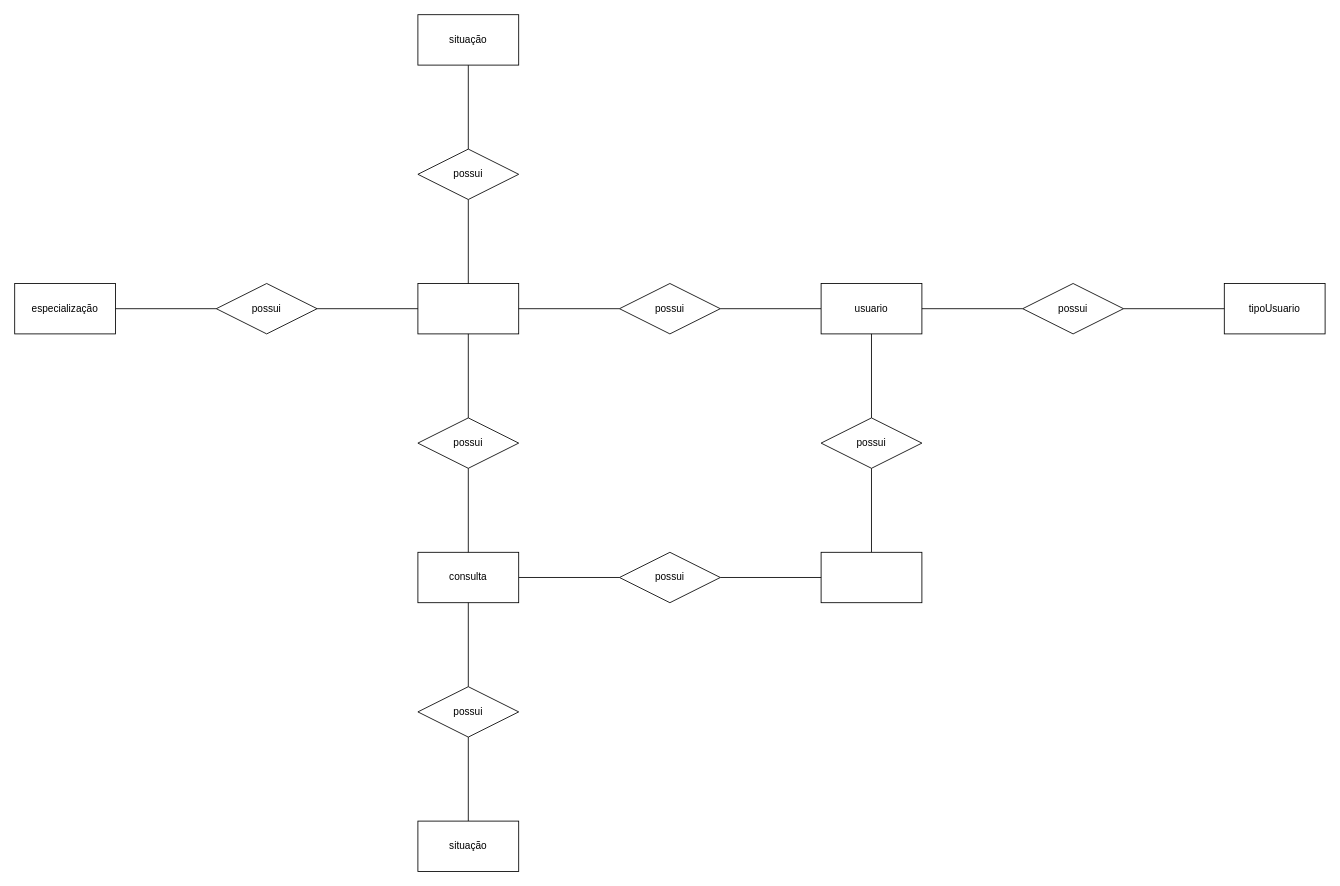
Some shapes in this 1340 by 886 pixel diagram are drawn without their labels. The shapes that lost their labels are listed below. From the top down, each one's centre as x and y in pixels, then its label:
At (x=468, y=308): "medico".
At (x=871, y=577): "paciente".
